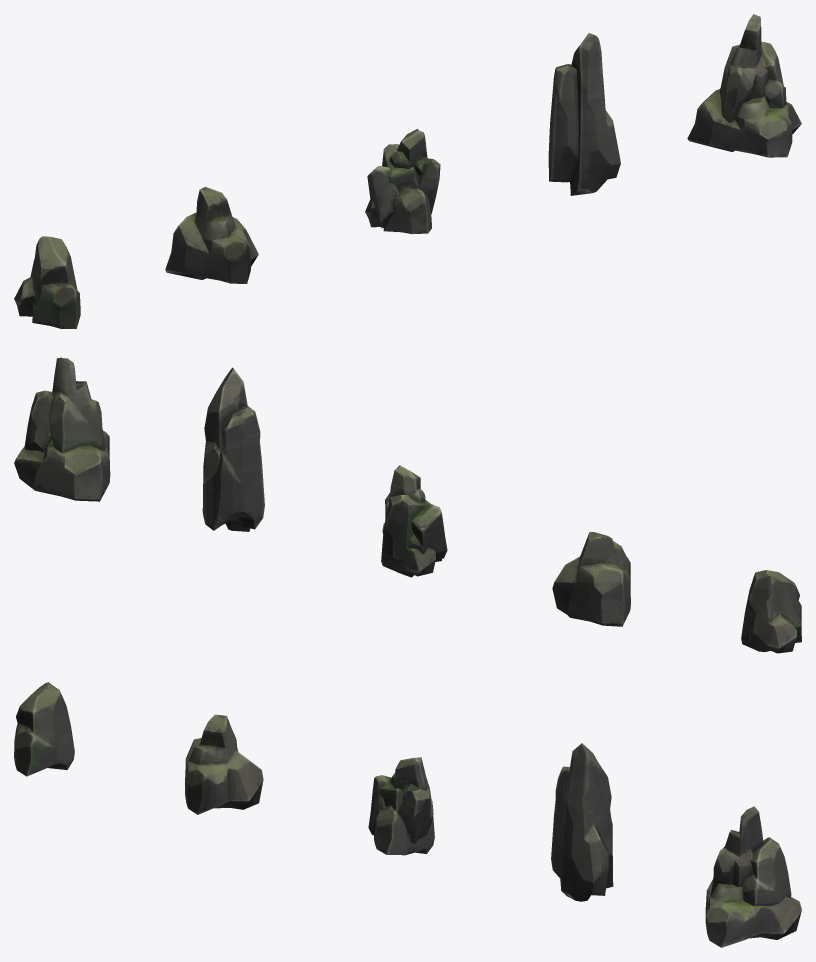
File: Rocks.fbx
3 views of the same model, one above another, from view 1: azimuth 30°, elevation 25°; view 2: azimuth 150°, elevation 25°; view 3: azimuth 330°, elevation 25° (orthographic).
Visible parts, largest first — view 1: Rock 5, Rock 4, Rock 2, Rock 3, Rock 1; view 2: Rock 5, Rock 4, Rock 2, Rock 3, Rock 1; view 3: Rock 5, Rock 4, Rock 2, Rock 3, Rock 1.
Part boxes in pixels (<box>): Rock 5: <box>687,14,801,157</box>; Rock 4: <box>548,33,620,195</box>; Rock 2: <box>165,186,258,283</box>; Rock 3: <box>365,129,440,234</box>; Rock 1: <box>14,236,80,328</box>; Rock 5: <box>14,357,110,501</box>; Rock 4: <box>202,367,264,531</box>; Rock 2: <box>552,532,630,626</box>; Rock 3: <box>381,465,447,577</box>; Rock 1: <box>741,570,801,653</box>; Rock 5: <box>705,806,801,947</box>; Rock 4: <box>551,743,613,901</box>; Rock 2: <box>185,714,263,814</box>; Rock 3: <box>368,757,434,855</box>; Rock 1: <box>14,682,74,776</box>.
Bounding box in the file's own units: 4354 × 861 × 527.
